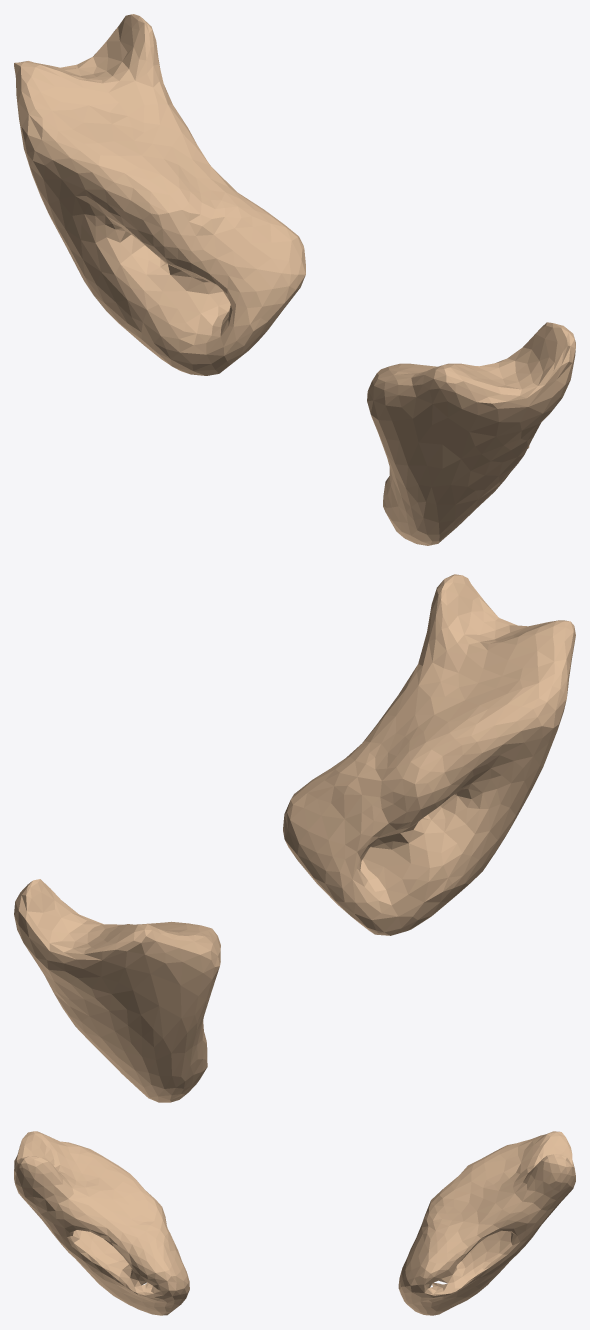
3 renders of one model, top to bottom at view 1: azimuth 30°, elevation 25°; view 2: azimuth 150°, elevation 25°; view 3: azimuth 270°, elevation 25°, orthographic. The views are drawn at different scales.
Parts seen in each view (by area): view 1: 867.obj; view 2: 867.obj; view 3: 867.obj.
Boxes of the visible parts, x1,y1,x2,y2 form: 867.obj: (14,14,575,545); 867.obj: (14,574,575,1102); 867.obj: (14,1131,575,1315).
Size of the model in its own units: 1191 by 1511 by 4460.
